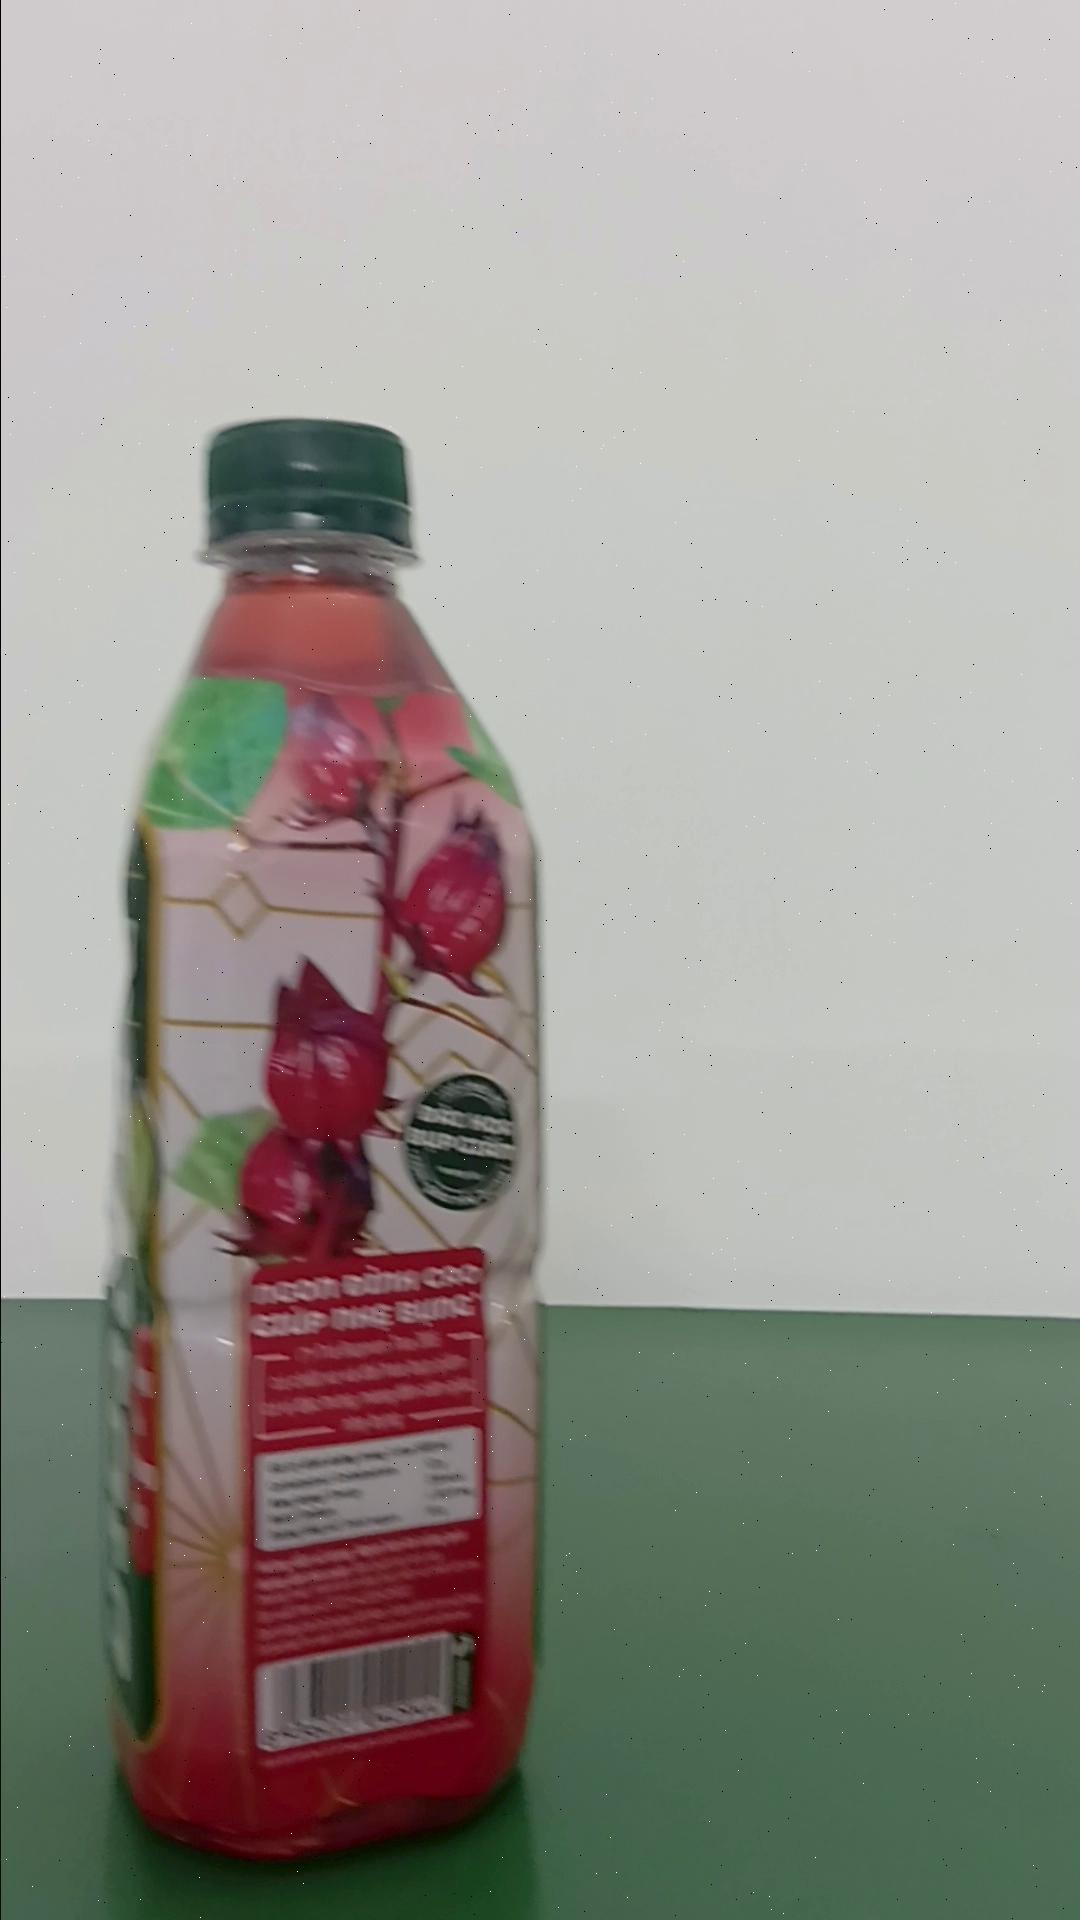loi meo sp: (96, 414, 549, 1861)
